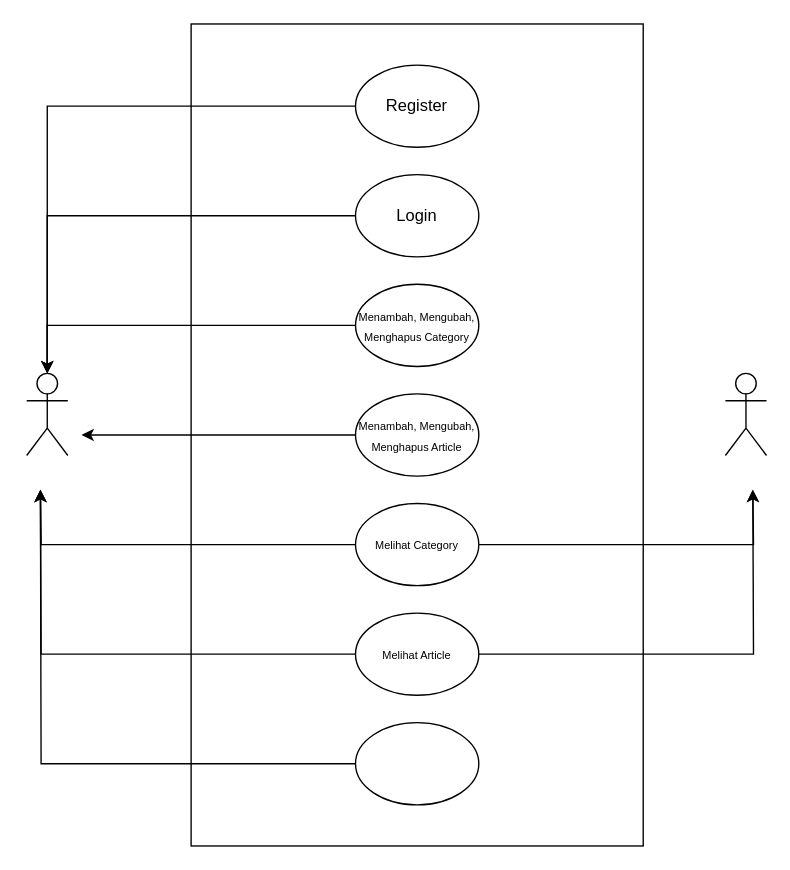
The diagram is 790 pixels wide and 870 high, and some of its shapes have lost their labels. The shapes that lost their labels are listed below. From the top down, each one's centre as x and y in pixels, then its label:
the point at 46,414: Admin
the point at 745,414: User
the point at 416,763: Logout
